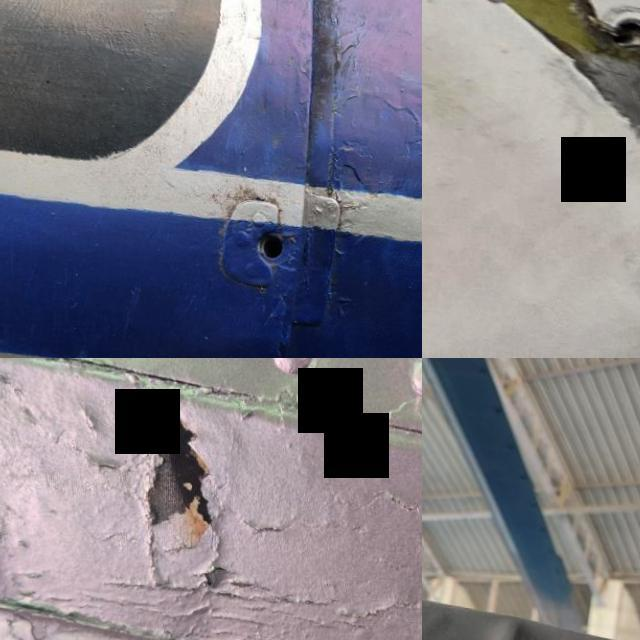Crack: (422, 0, 640, 143), (115, 383, 231, 544)
Dent: (483, 608, 543, 640)
Missing_Fastener: (214, 194, 314, 296)
